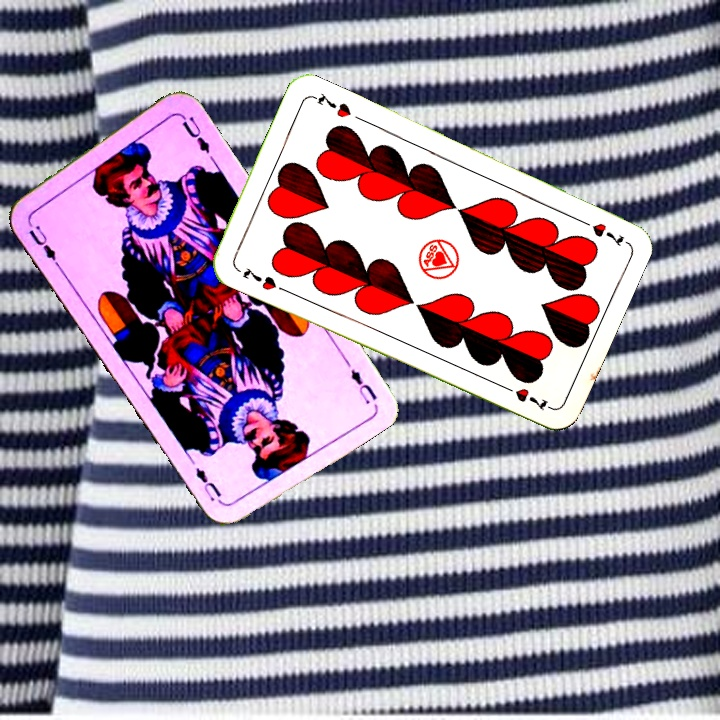EU: (23, 213, 64, 267), (346, 364, 380, 407)
H7: (573, 214, 629, 249), (239, 263, 279, 293)
